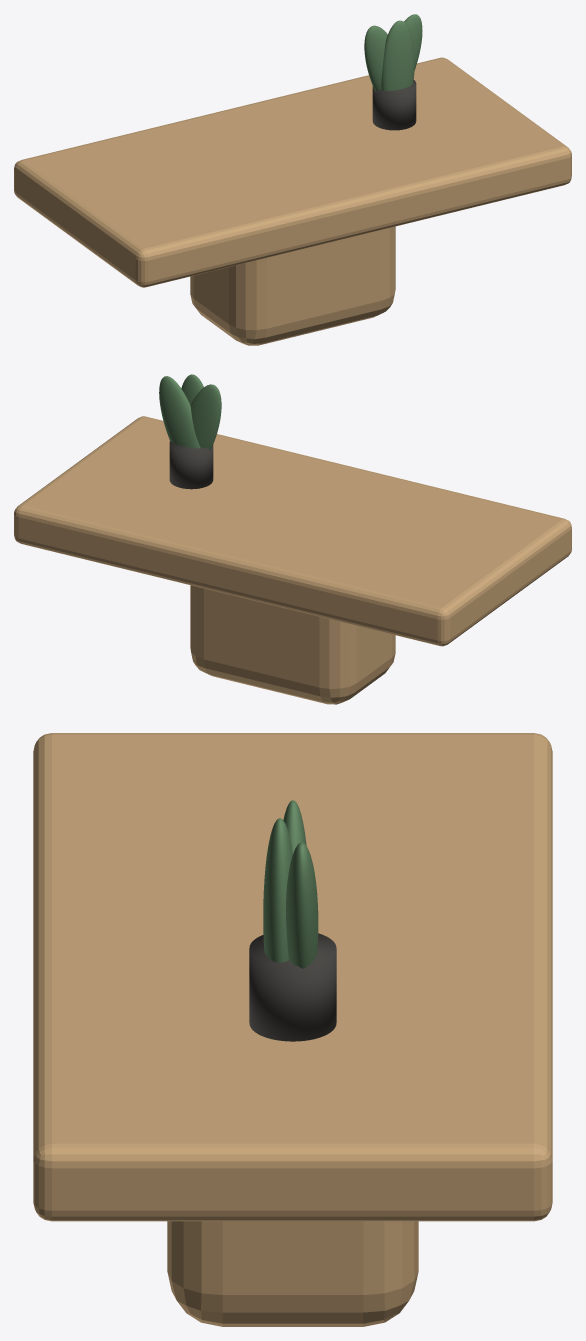
The model's file is coffee-table.glb.
3 views of the same model, one above another, from view 1: azimuth 30°, elevation 25°; view 2: azimuth 150°, elevation 25°; view 3: azimuth 270°, elevation 25° (orthographic). The views are drawn at different scales.
Visible parts, largest first — view 1: CANONICAL rounded top, CANONICAL pedestal, ACCENT leaf.002, ACCENT planter, ACCENT leaf, ACCENT leaf.001; view 2: CANONICAL rounded top, CANONICAL pedestal, ACCENT leaf.001, ACCENT planter, ACCENT leaf; view 3: CANONICAL rounded top, CANONICAL pedestal, ACCENT planter, ACCENT leaf.001, ACCENT leaf.002.
Part boxes in pixels (x1=…): CANONICAL rounded top: x1=14, y1=57, x2=571, y2=287; CANONICAL pedestal: x1=190, y1=226, x2=395, y2=345; ACCENT leaf.002: x1=381, y1=20, x2=414, y2=90; ACCENT planter: x1=372, y1=80, x2=416, y2=130; ACCENT leaf: x1=364, y1=25, x2=387, y2=91; ACCENT leaf.001: x1=404, y1=14, x2=422, y2=70; CANONICAL rounded top: x1=14, y1=416, x2=571, y2=646; CANONICAL pedestal: x1=190, y1=585, x2=395, y2=704; ACCENT leaf.001: x1=159, y1=376, x2=200, y2=448; ACCENT planter: x1=169, y1=441, x2=213, y2=489; ACCENT leaf: x1=190, y1=384, x2=221, y2=450; CANONICAL rounded top: x1=33, y1=733, x2=552, y2=1221; CANONICAL pedestal: x1=167, y1=1221, x2=418, y2=1326; ACCENT planter: x1=249, y1=933, x2=336, y2=1041; ACCENT leaf.001: x1=286, y1=842, x2=318, y2=968; ACCENT leaf.002: x1=263, y1=818, x2=292, y2=962.
Bounding box in the file's own units: 1.2 × 0.7203 × 0.62.
